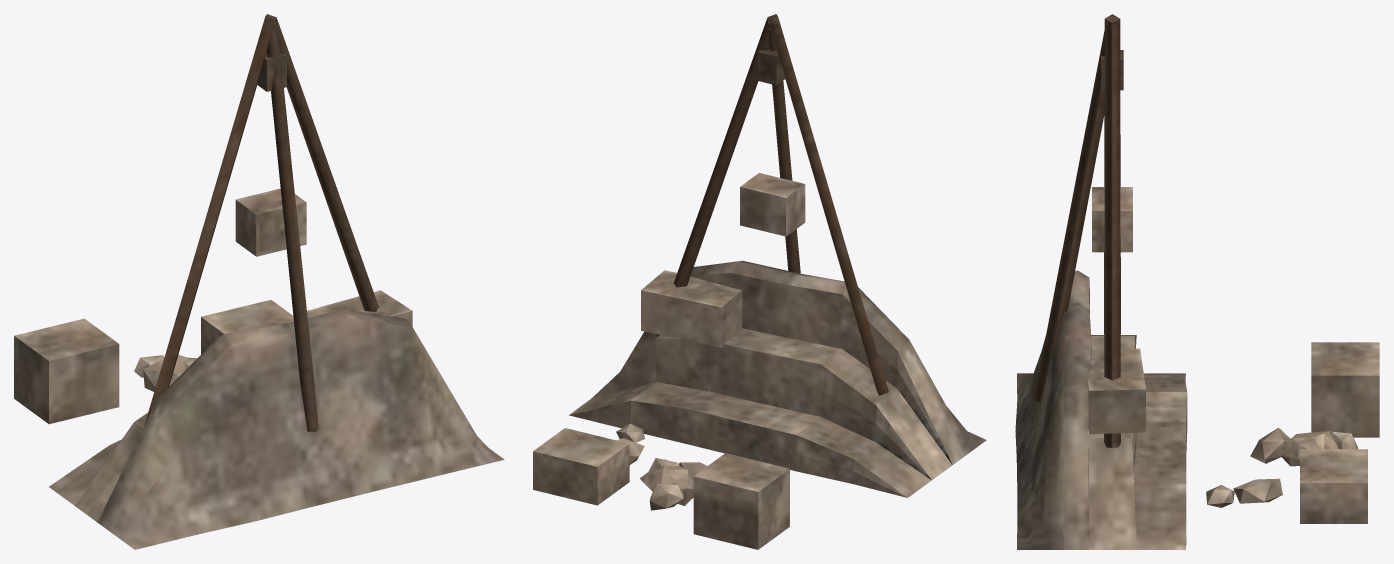
File: b_quarry_xfar.glb
3 renders of one model, left to right at view 1: azimuth 30°, elevation 25°; view 2: azimuth 150°, elevation 25°; view 3: azimuth 270°, elevation 25°, orthographic. The views are drawn at different scales.
Visible parts, largest first — view 1: b_quarry_xfar; view 2: b_quarry_xfar; view 3: b_quarry_xfar.
Boxes of the visible parts, x1=… form: b_quarry_xfar: x1=14, y1=14, x2=504, y2=549; b_quarry_xfar: x1=533, y1=14, x2=986, y2=549; b_quarry_xfar: x1=1015, y1=14, x2=1379, y2=549.
Bounding box in the file's own units: 3.68 × 4.32 × 3.2.
1 material, 1 textured.
